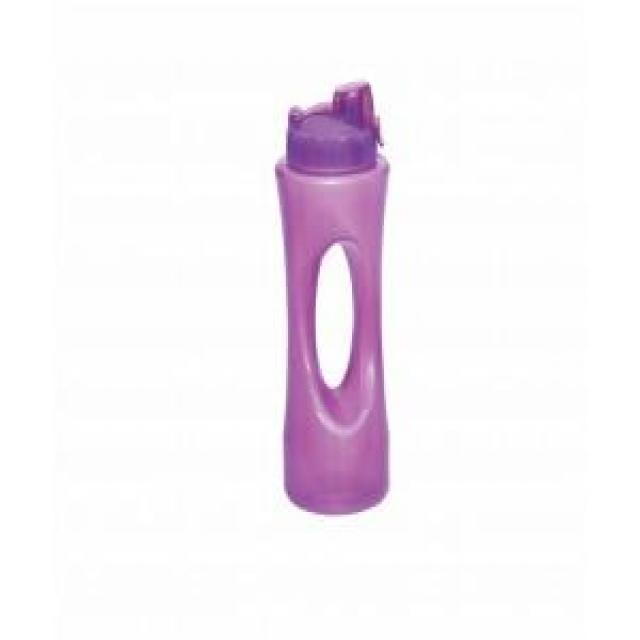plastic_bottle: (274, 91, 396, 523)
